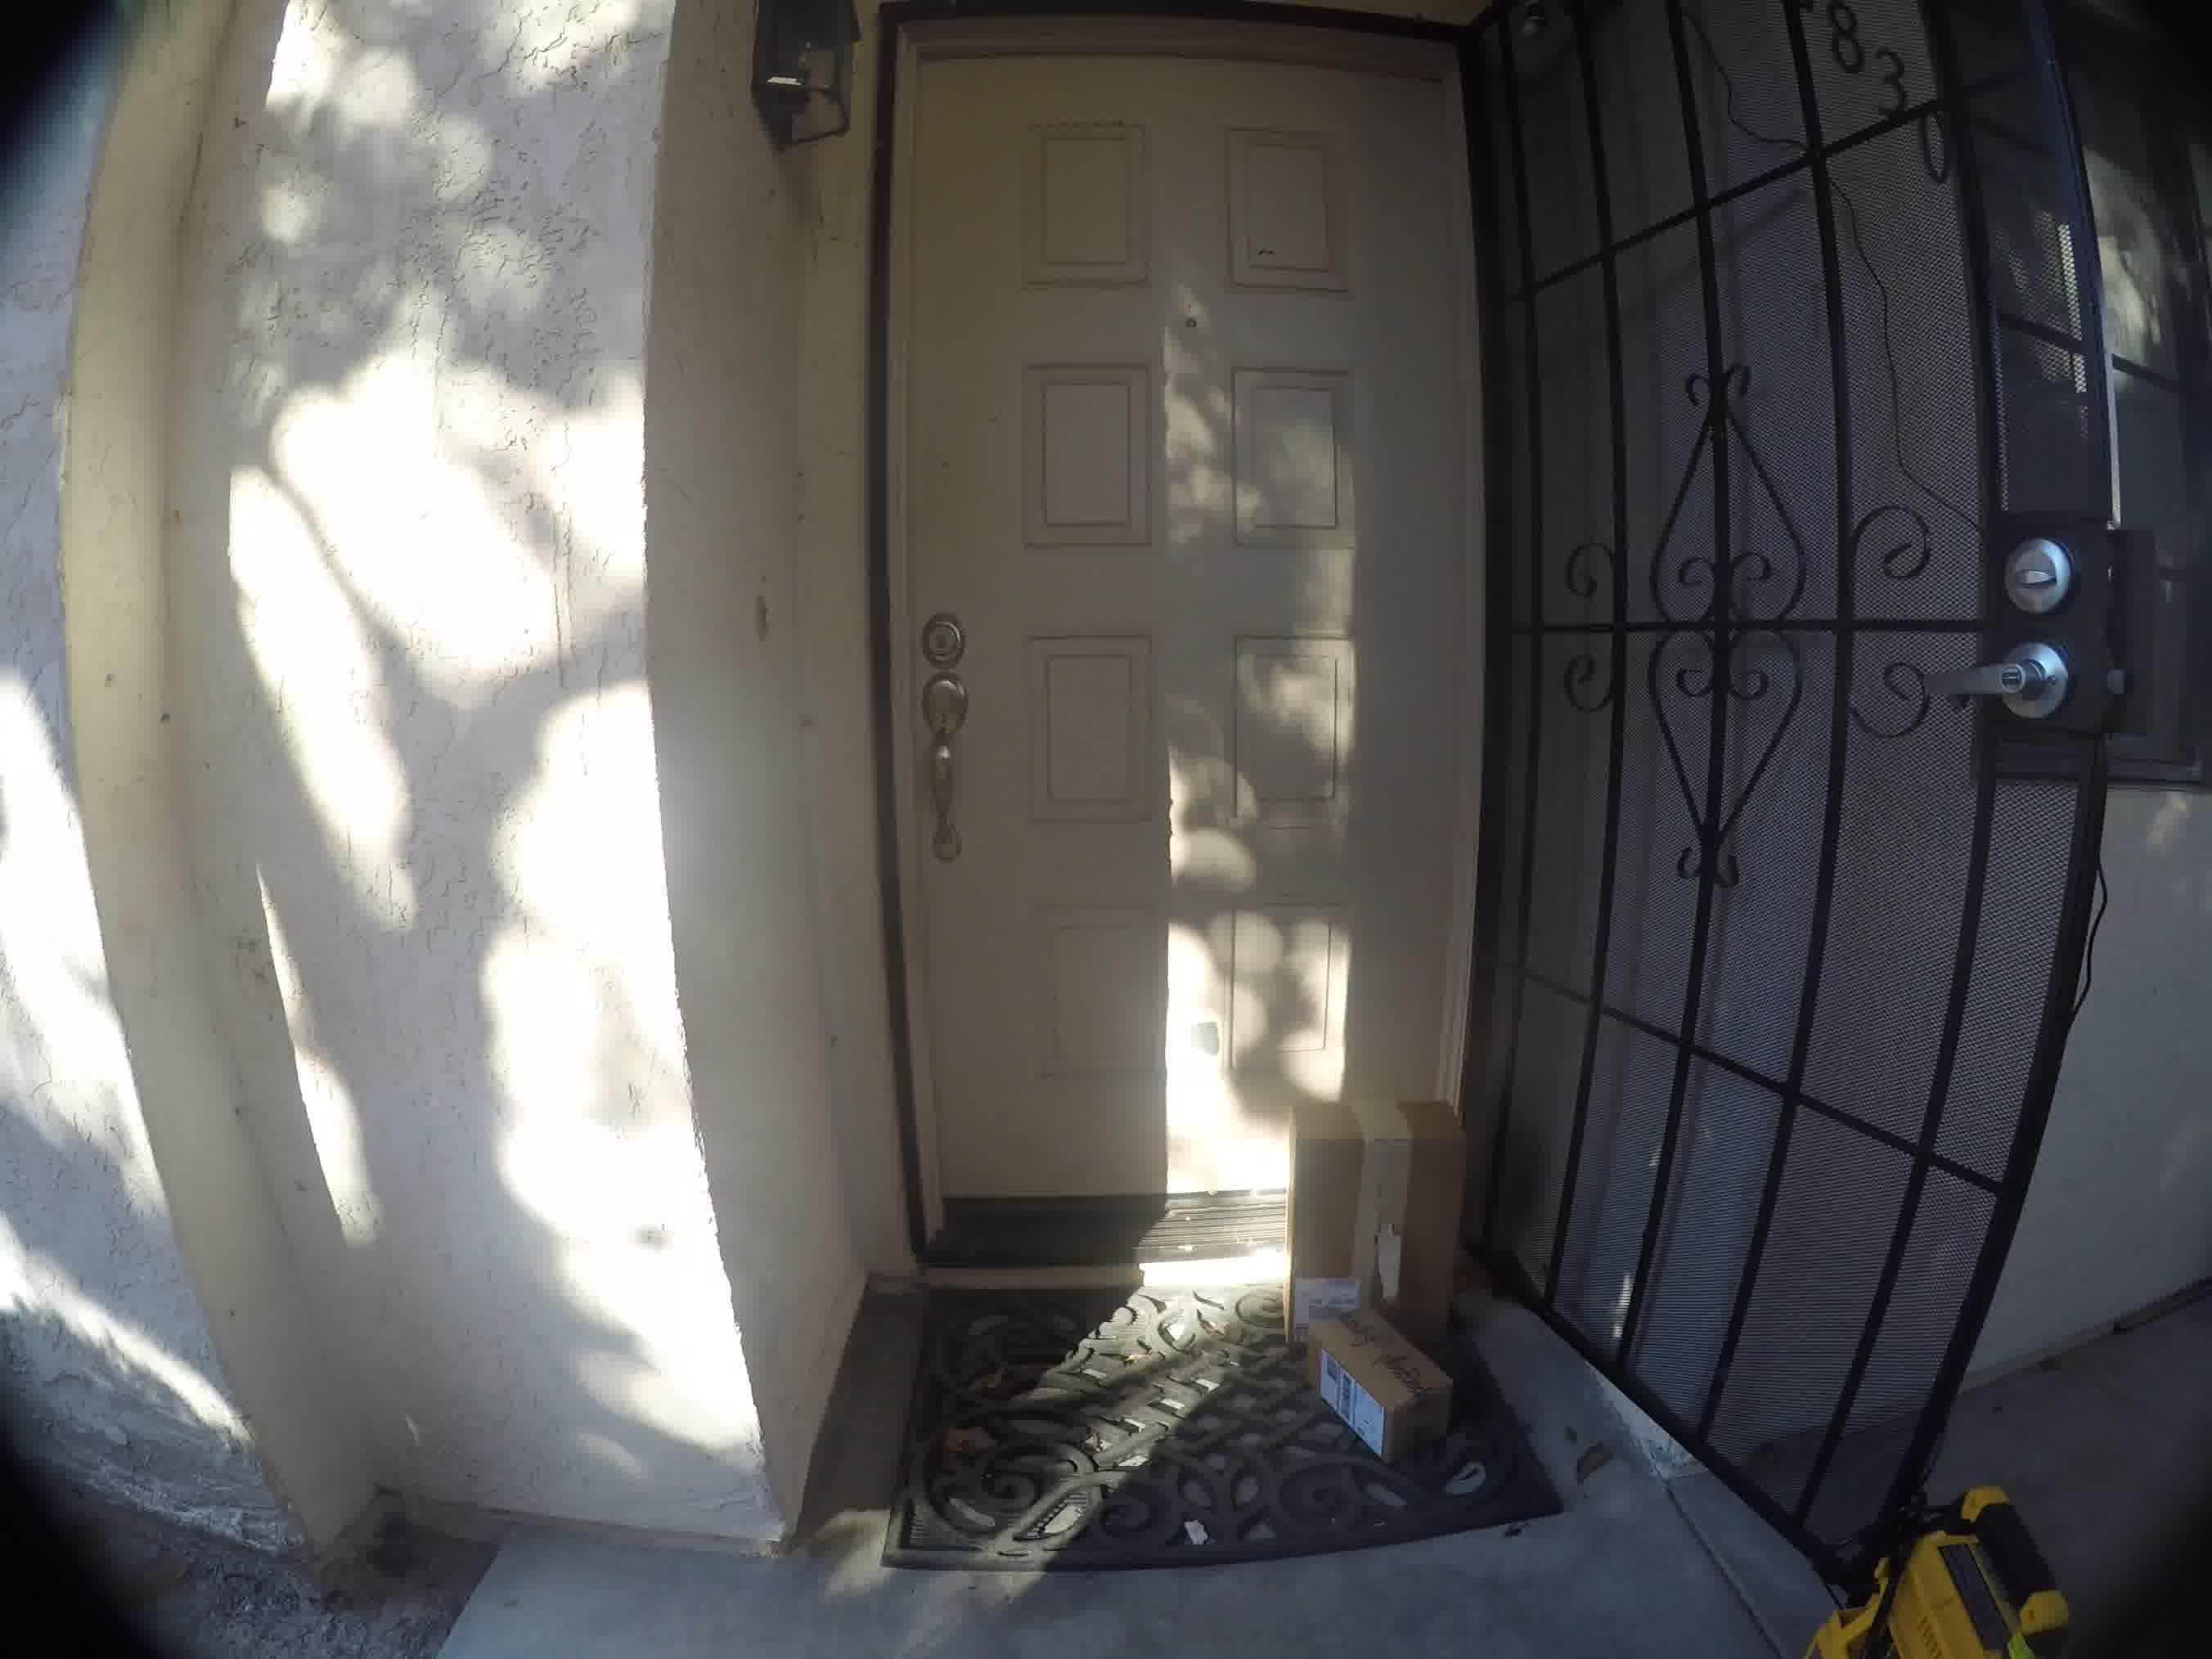box: (1284, 1087, 1486, 1298), (1275, 1298, 1486, 1459)
